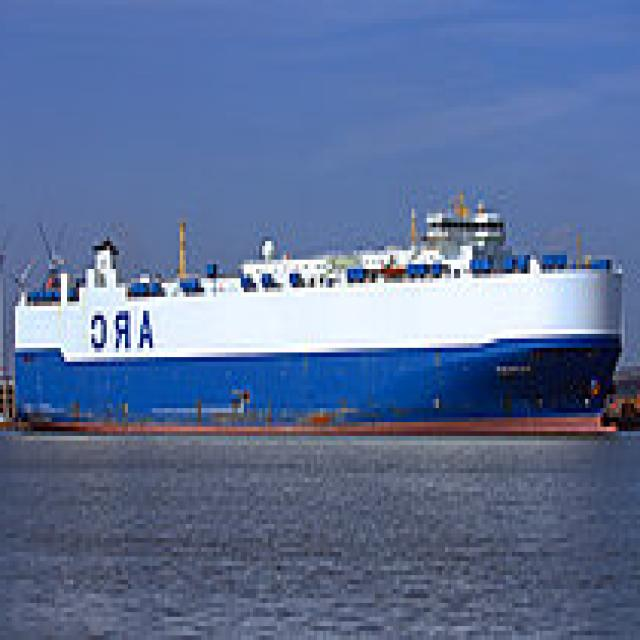Carrier: (12, 181, 631, 436)
